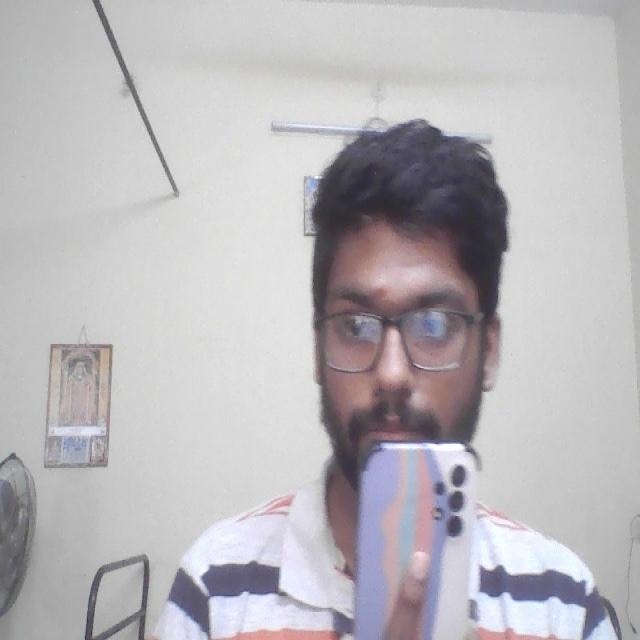Mobile: (347, 437, 488, 640)
